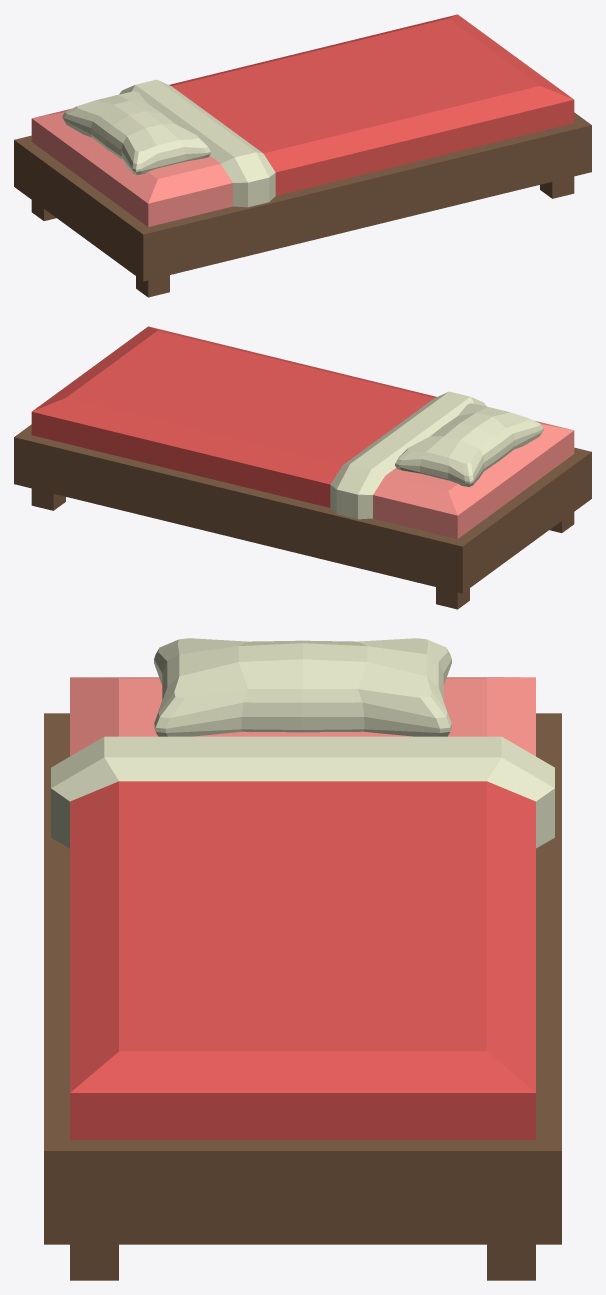
File: Bed.fbx
The picture shows the model from 3 angles, top to bottom: view 1: azimuth 30°, elevation 25°; view 2: azimuth 150°, elevation 25°; view 3: azimuth 270°, elevation 25°; orthographic projection. The views are drawn at different scales.
Visible parts, largest first — view 1: Cube, Cube.001; view 2: Cube, Cube.001; view 3: Cube, Cube.001.
Part boxes in pixels (x1,y1,x2,y2): Cube: [14, 14, 591, 297]; Cube.001: [62, 91, 210, 174]; Cube: [14, 326, 591, 609]; Cube.001: [395, 403, 543, 486]; Cube: [44, 677, 561, 1280]; Cube.001: [154, 638, 451, 736].
Size of the model in its own units: 1000 by 277 by 500.
